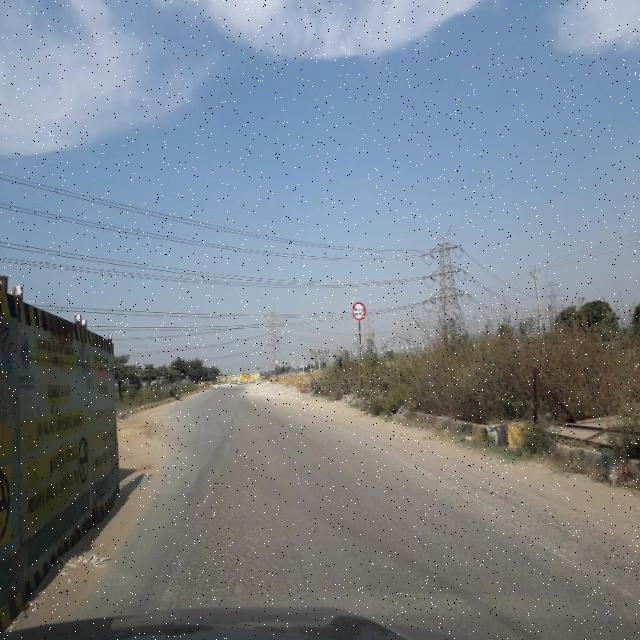D20: (172, 500, 288, 602)
